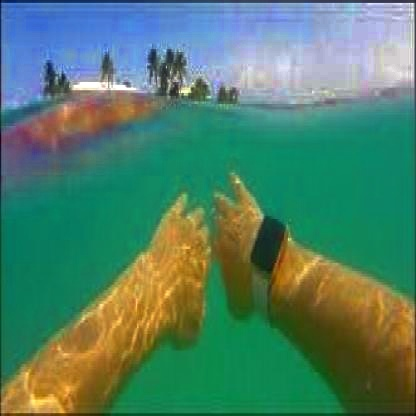electronics: (246, 219, 288, 331)
